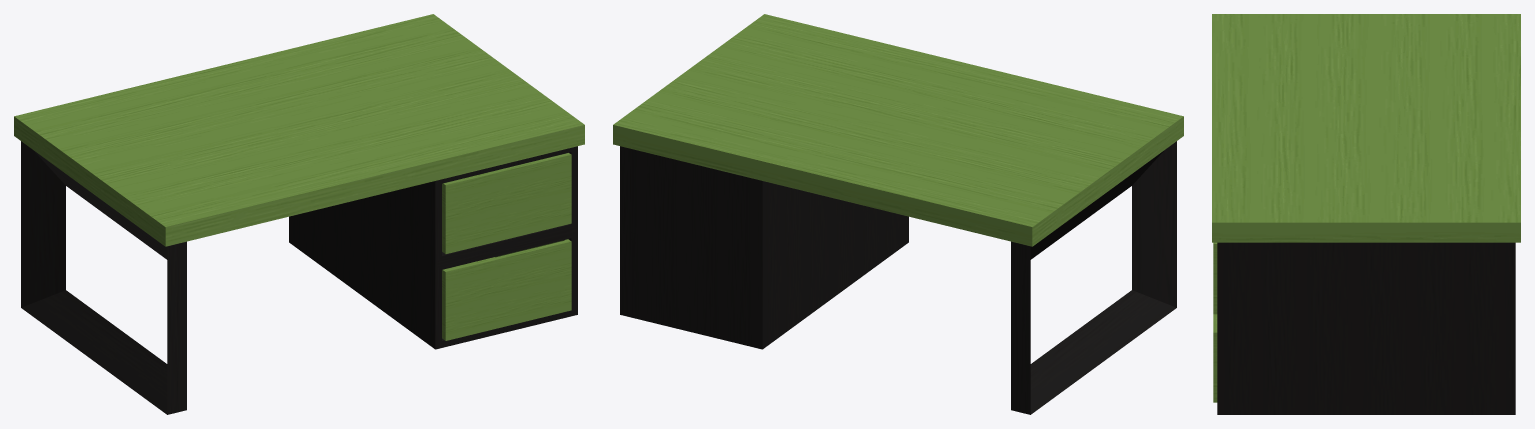
Rendered from Desk_W_Drawers_B.FBX.
3 renders of one model, left to right at view 1: azimuth 30°, elevation 25°; view 2: azimuth 150°, elevation 25°; view 3: azimuth 270°, elevation 25°, orthographic.
Visible parts, largest first — view 1: Desk_With_Drawers, Drawer_B, Drawer_A; view 2: Desk_With_Drawers; view 3: Desk_With_Drawers, Drawer_B, Drawer_A.
Part boxes in pixels (bbox=[...]): Desk_With_Drawers: bbox=[14, 14, 584, 414]; Drawer_B: bbox=[442, 239, 571, 340]; Drawer_A: bbox=[442, 153, 571, 253]; Desk_With_Drawers: bbox=[613, 14, 1183, 414]; Desk_With_Drawers: bbox=[1212, 14, 1520, 414]; Drawer_B: bbox=[1213, 314, 1217, 402]; Drawer_A: bbox=[1213, 242, 1217, 314].
Size of the model in its own units: 227 by 98.47 by 142.
